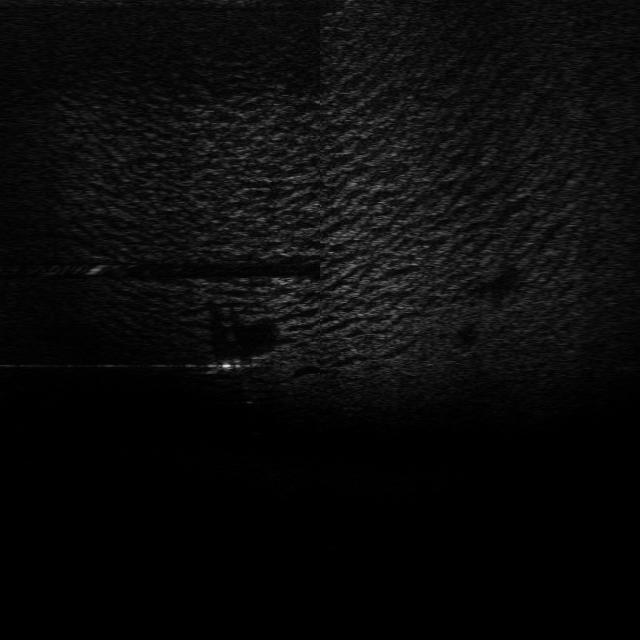plane: (196, 353, 282, 376)
